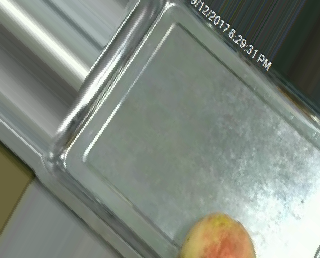Peach: (177, 214, 256, 258)
